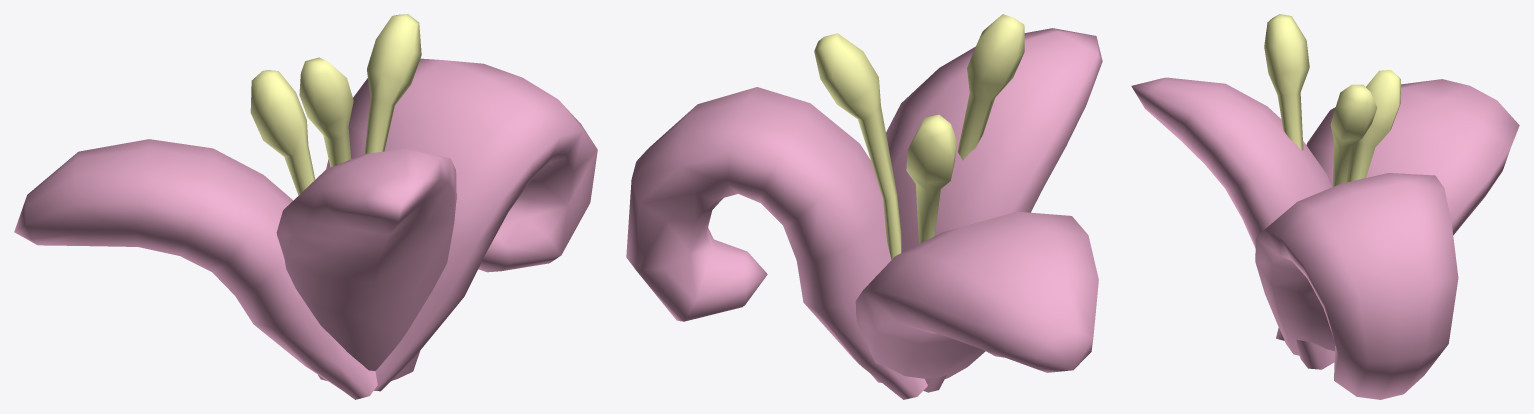
The model's file is Flower_05.fbx.
The picture shows the model from 3 angles, left to right: view 1: azimuth 30°, elevation 25°; view 2: azimuth 150°, elevation 25°; view 3: azimuth 270°, elevation 25°; orthographic projection. The views are drawn at different scales.
Parts seen in each view (by area): view 1: polySurface785; view 2: polySurface785; view 3: polySurface785.
Part boxes in pixels (<box>): polySurface785: <box>14,14,597,399</box>; polySurface785: <box>626,14,1102,399</box>; polySurface785: <box>1131,14,1519,399</box>.
Size of the model in its own units: 66.43 by 45.31 by 51.22.
